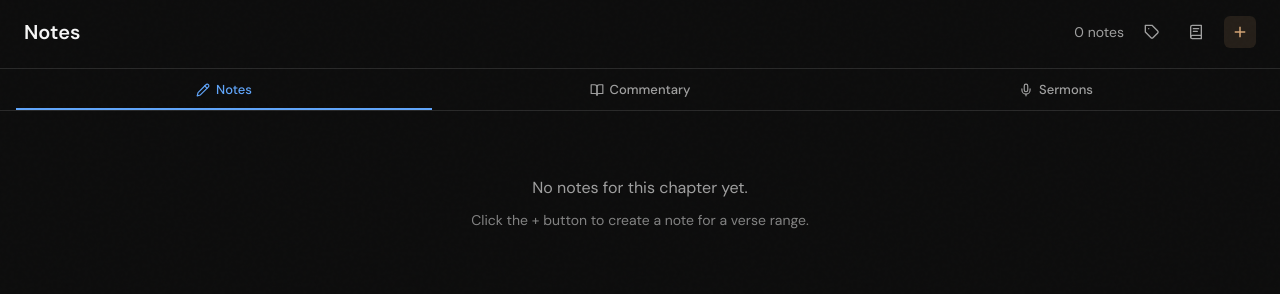
NotesPanel › pluralization › shows singular sermon
Click the button "Sermons" at (1056, 90), box [848,69,1264,110]
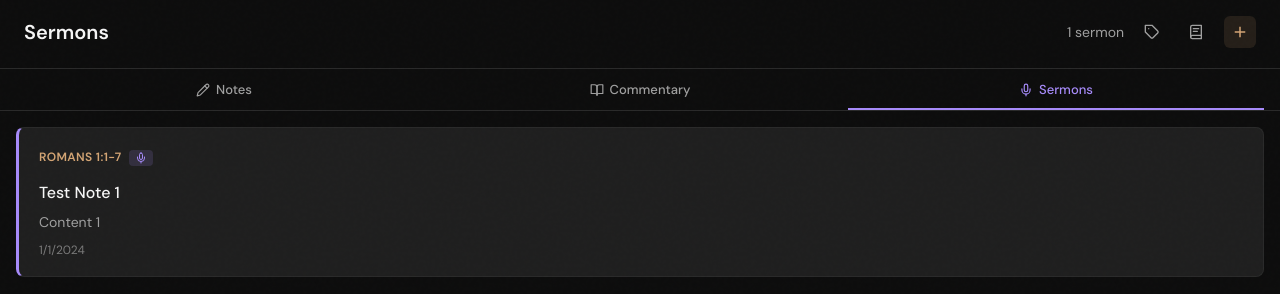
Result: the text "1 sermon" is shown at [1067,21,1124,43]
